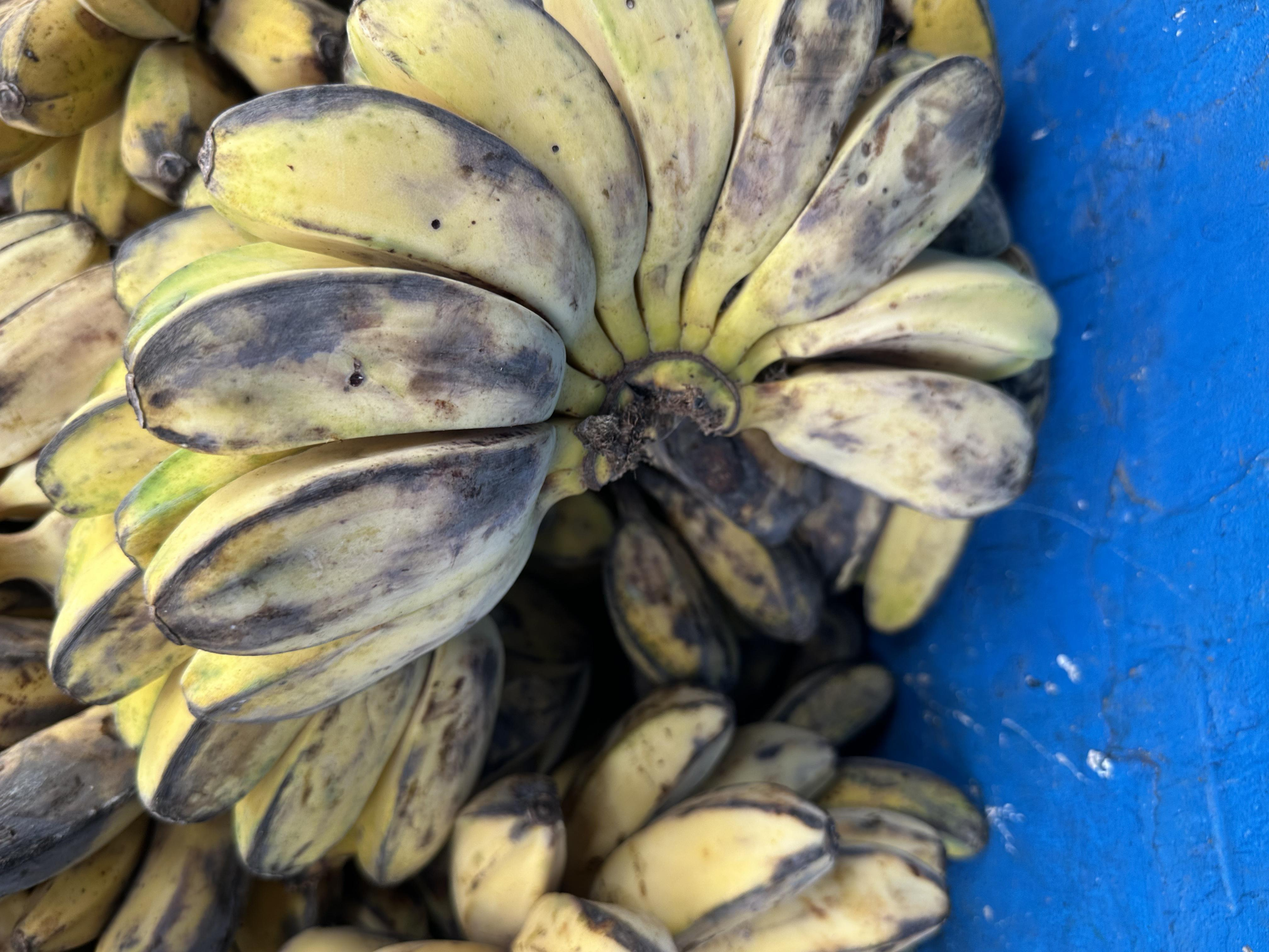ripe: (37, 390, 504, 884), (447, 664, 988, 952)
underripe: (113, 0, 1058, 720), (0, 0, 345, 239)
